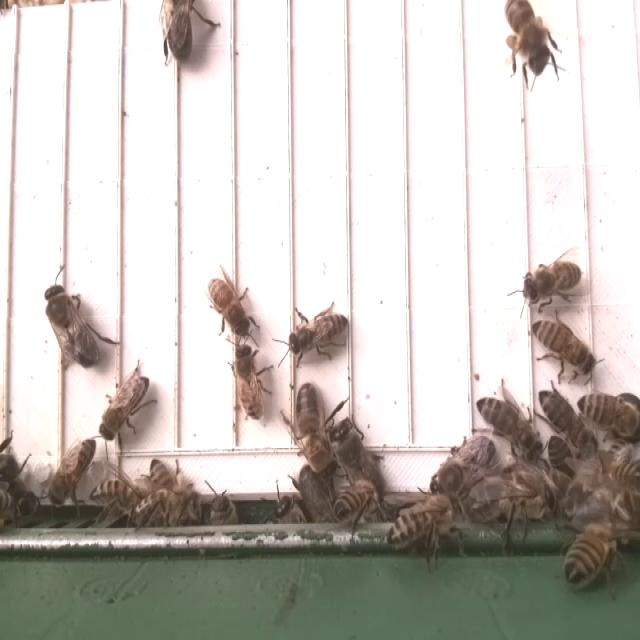Drone: (30, 274, 117, 372), (428, 421, 498, 508), (326, 406, 391, 498)
Worker: (467, 467, 562, 536), (501, 249, 590, 322), (472, 380, 547, 463), (278, 375, 336, 474), (385, 491, 465, 562), (528, 389, 605, 460), (277, 300, 353, 370), (99, 466, 172, 538), (102, 357, 163, 437), (528, 314, 598, 381), (52, 435, 104, 522), (560, 519, 624, 587), (203, 270, 255, 341), (573, 387, 640, 442)
